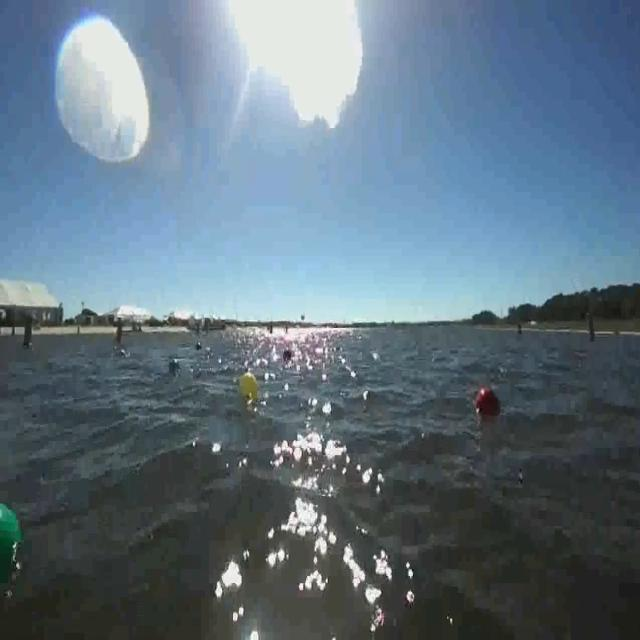green-buoy: (0, 499, 30, 589)
green-column-buoy: (23, 316, 36, 350)
red-buoy: (478, 390, 499, 418)
yellow-buoy: (236, 368, 257, 398)
